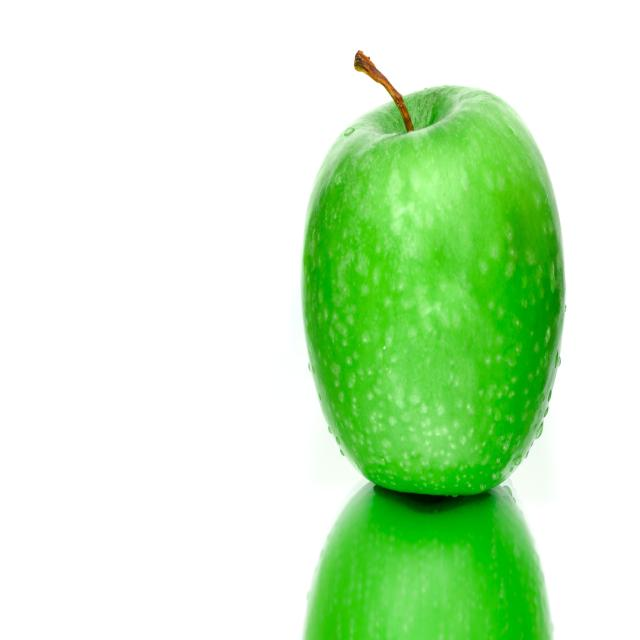manzana: (298, 35, 569, 504)
